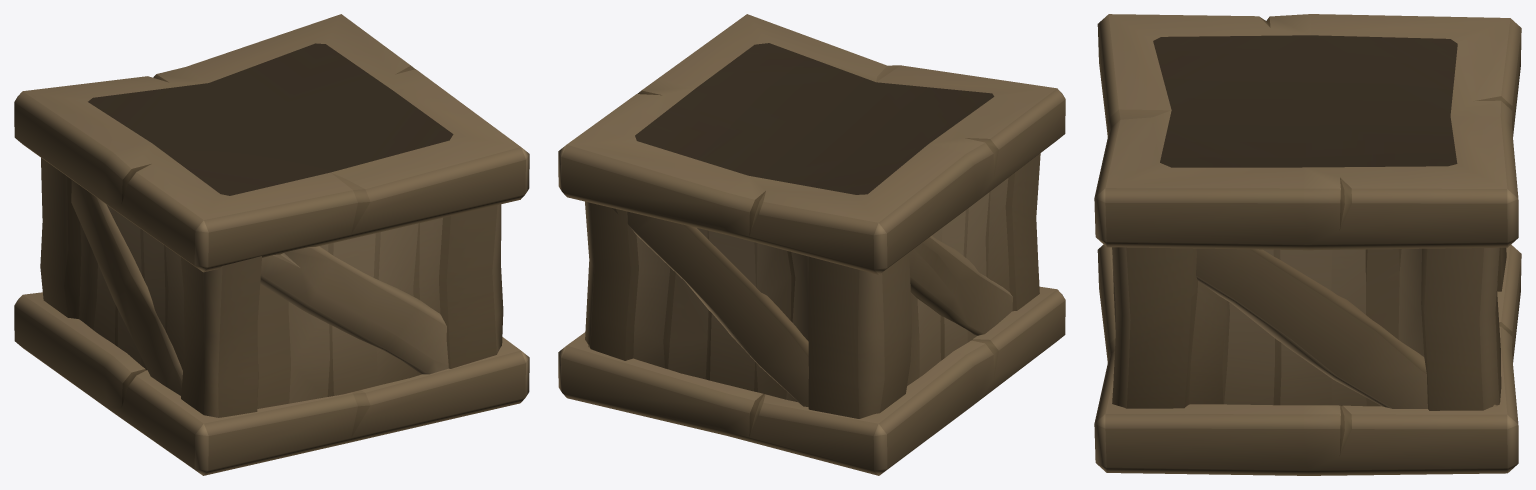
The model's file is mine_building_wood.fbx.
The picture shows the model from 3 angles, left to right: view 1: azimuth 30°, elevation 25°; view 2: azimuth 150°, elevation 25°; view 3: azimuth 270°, elevation 25°; orthographic projection. The views are drawn at different scales.
Visible parts, largest first — view 1: mine_building_wood; view 2: mine_building_wood; view 3: mine_building_wood.
Part boxes in pixels (x1=…): mine_building_wood: x1=14, y1=14, x2=529, y2=475; mine_building_wood: x1=558, y1=14, x2=1065, y2=475; mine_building_wood: x1=1094, y1=14, x2=1521, y2=475.
Bounding box in the file's own units: 388 × 292 × 386.
